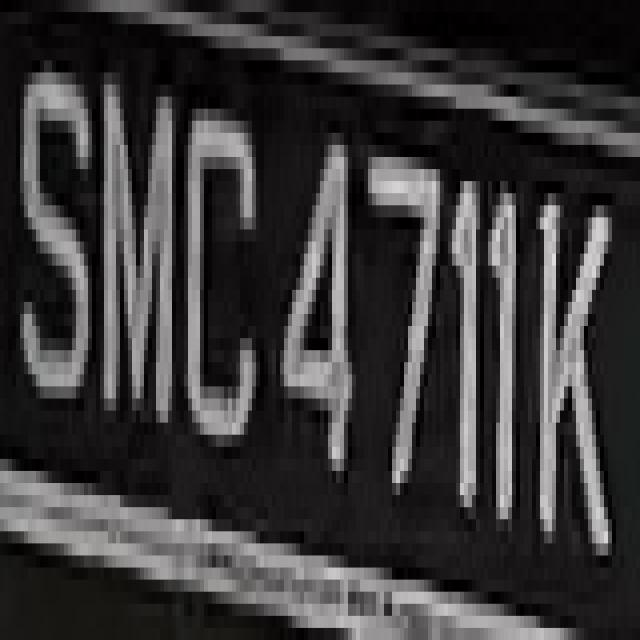1: (484, 108, 532, 568), (448, 84, 492, 544)
4: (280, 109, 368, 507)
7: (348, 121, 440, 519)
C: (188, 60, 256, 495)
K: (528, 145, 612, 567)
M: (92, 36, 184, 471)
S: (20, 24, 100, 423)
